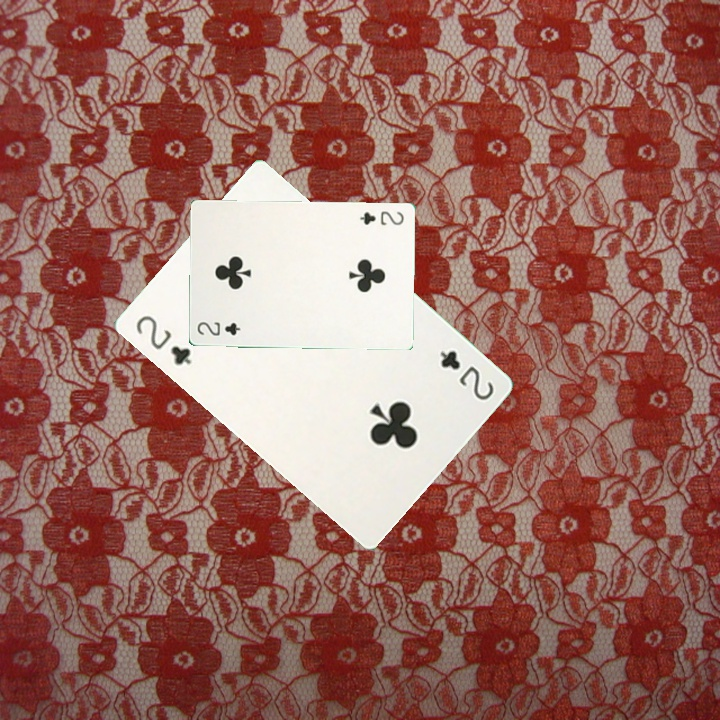2c: (131, 311, 194, 368), (436, 346, 497, 403), (356, 207, 406, 227), (193, 318, 243, 338)
